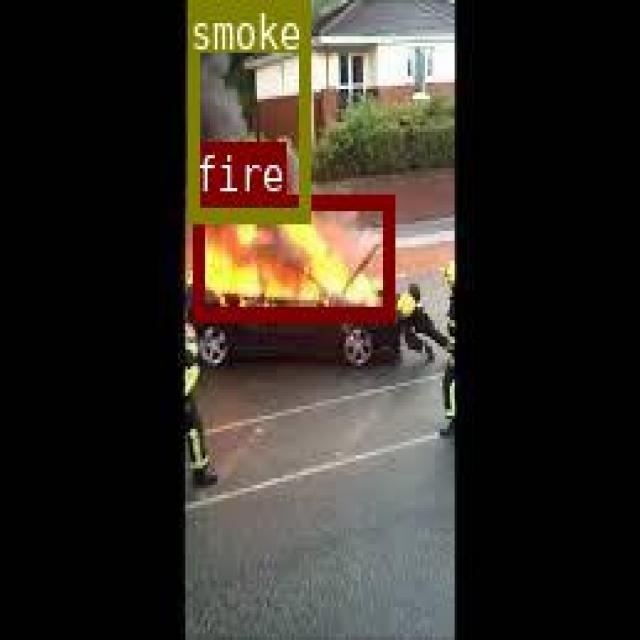fire: (193, 194, 392, 320)
smoke: (185, 0, 309, 221)
